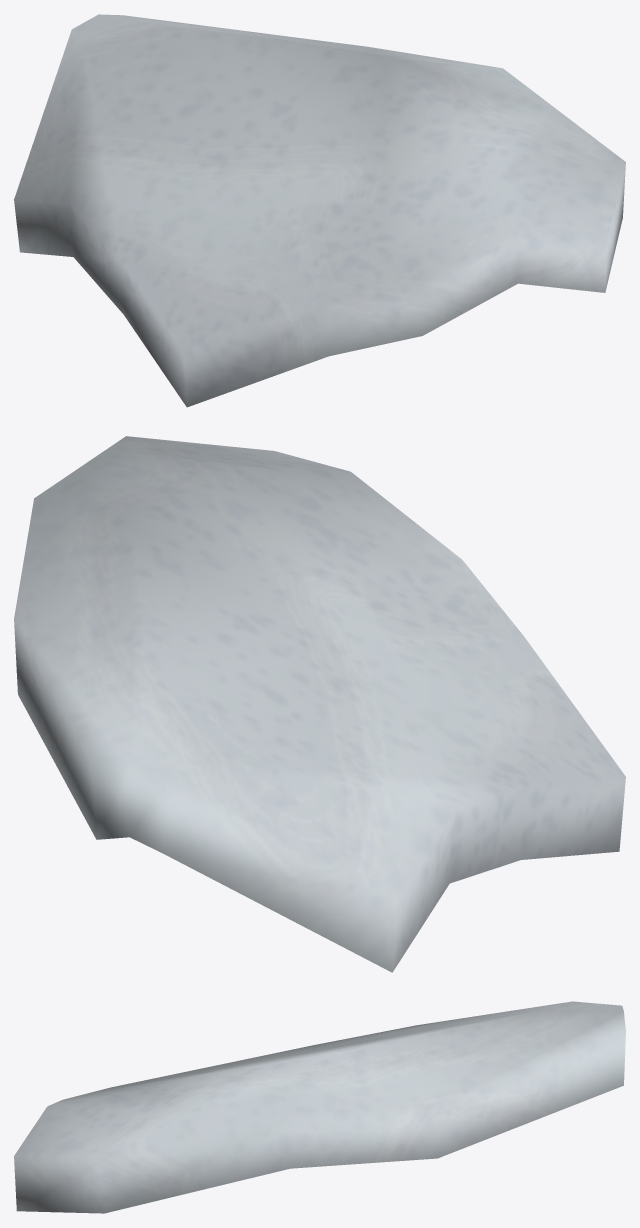
File: Rock_24_Snow.fbx
The picture shows the model from 3 angles, top to bottom: view 1: azimuth 30°, elevation 25°; view 2: azimuth 150°, elevation 25°; view 3: azimuth 270°, elevation 25°; orthographic projection. The views are drawn at different scales.
Visible parts, largest first — view 1: Rock_24_Snow; view 2: Rock_24_Snow; view 3: Rock_24_Snow.
Boxes of the visible parts, x1,y1,x2,y2 form: Rock_24_Snow: (14, 14, 625, 407); Rock_24_Snow: (14, 436, 625, 972); Rock_24_Snow: (14, 1001, 625, 1213).
Size of the model in its own units: 204 by 108 by 269.
